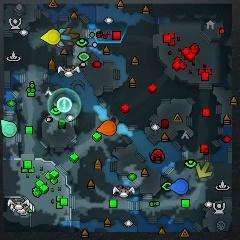Other: (57, 97, 72, 113)
p1: (168, 178, 189, 195)
p2: (1, 120, 18, 137)
p4: (40, 29, 60, 46)
p5: (96, 120, 117, 136)
x1: (56, 43, 63, 49)
x2: (196, 162, 213, 179)
x3: (57, 29, 71, 46)
x5: (64, 28, 80, 46)
